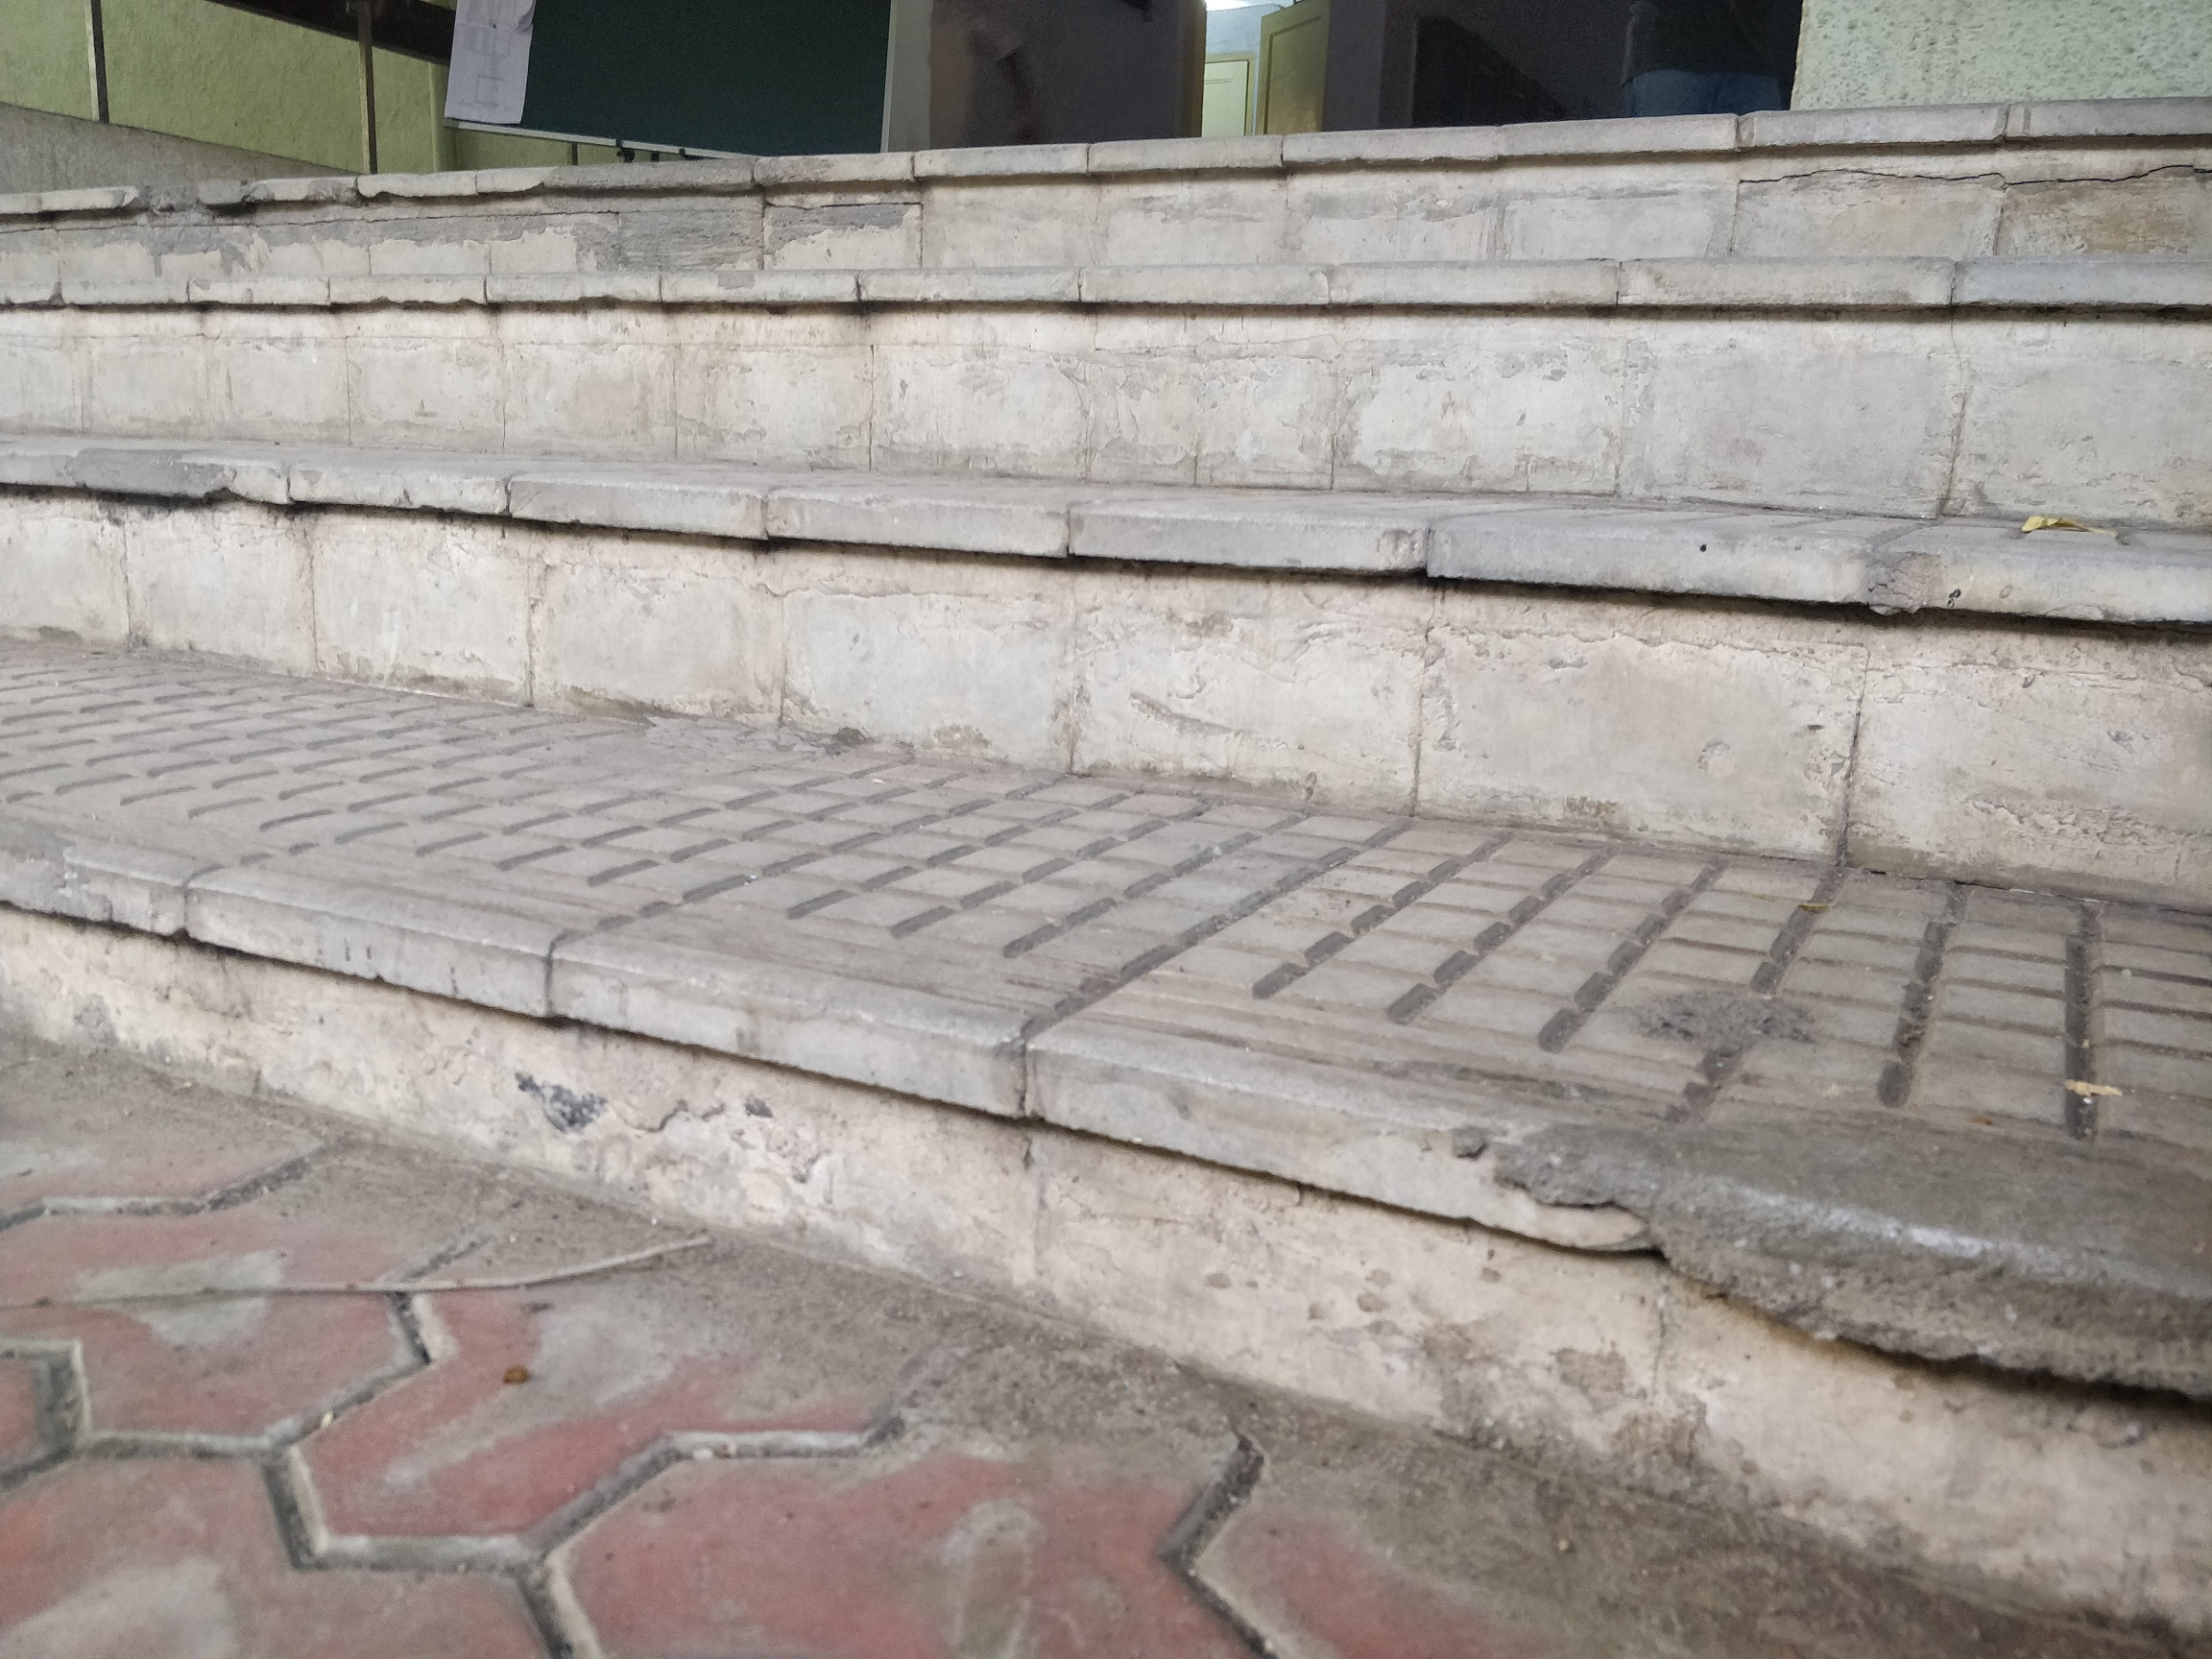stairs_up: (26, 118, 2210, 1441)
